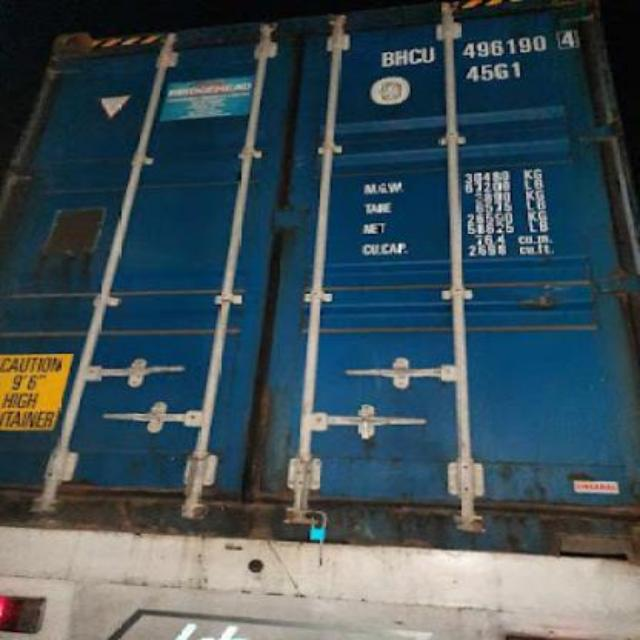0: (534, 35, 546, 53)
1: (506, 40, 516, 54)
4: (462, 40, 476, 61), (560, 32, 574, 48)
6: (491, 39, 504, 57)
9: (516, 34, 532, 56), (476, 40, 489, 58)
B: (382, 51, 394, 69)
C: (408, 48, 422, 64)
H: (396, 50, 408, 64)
U: (422, 45, 436, 63)
